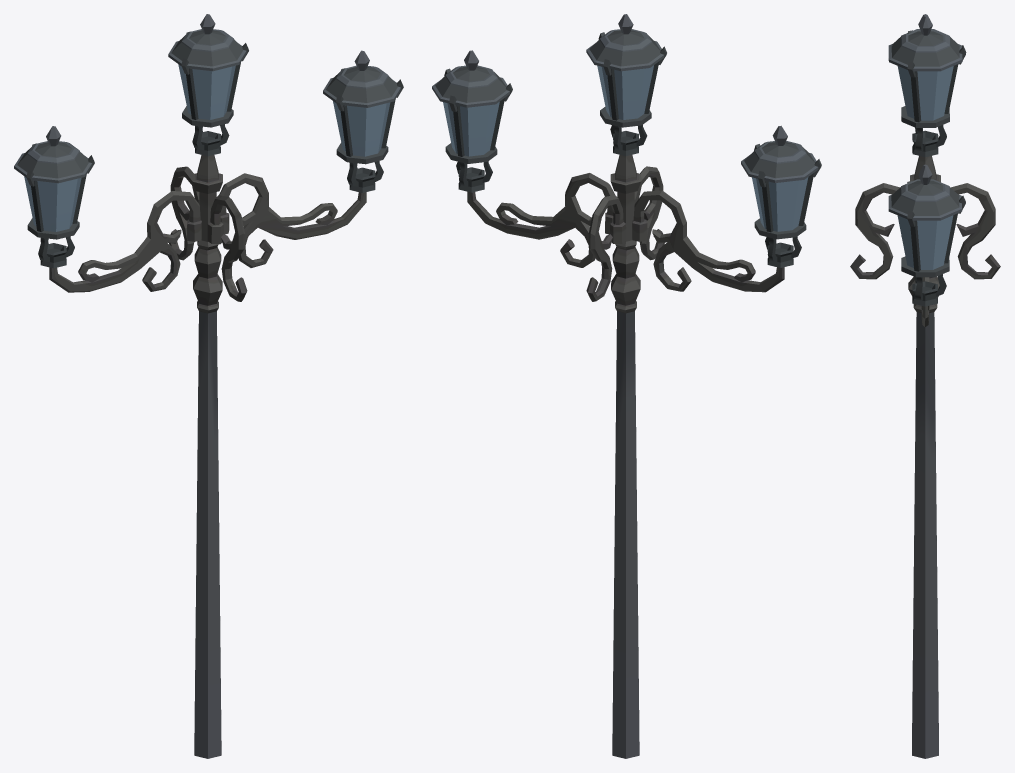
File: lamp-post.glb
3 views of the same model, side by side, from view 1: azimuth 30°, elevation 25°; view 2: azimuth 150°, elevation 25°; view 3: azimuth 270°, elevation 25° (orthographic).
Parts seen in each view (by area): view 1: SM_Prop_Lamp_Post_01; view 2: SM_Prop_Lamp_Post_01; view 3: SM_Prop_Lamp_Post_01.
Boxes of the visible parts, x1,y1,x2,y2 form: SM_Prop_Lamp_Post_01: [14, 14, 403, 758]; SM_Prop_Lamp_Post_01: [432, 14, 821, 758]; SM_Prop_Lamp_Post_01: [850, 14, 1000, 758].
Size of the model in its own units: 224 by 419 by 77.86.
1 material, 1 textured.
